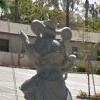Statue: (17, 7, 78, 91)
